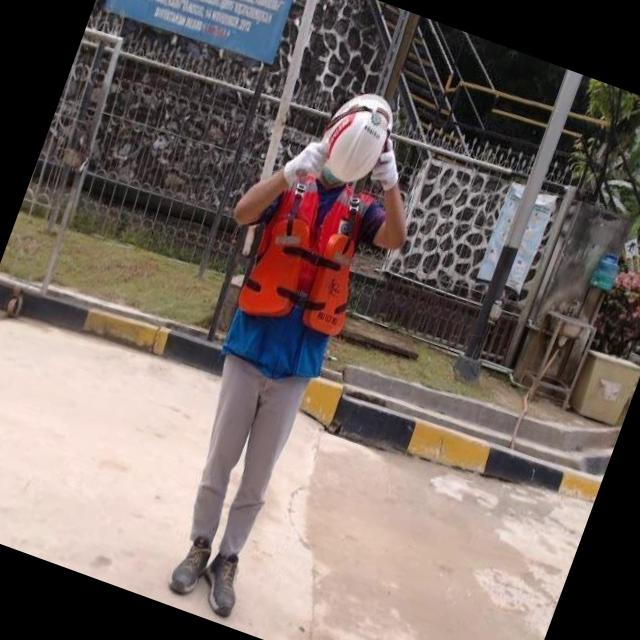hard_hat: (304, 74, 405, 208)
safety_vest: (224, 162, 395, 372)
vehicle: (89, 90, 456, 640)
work_boots: (162, 528, 222, 612), (196, 543, 258, 621)
